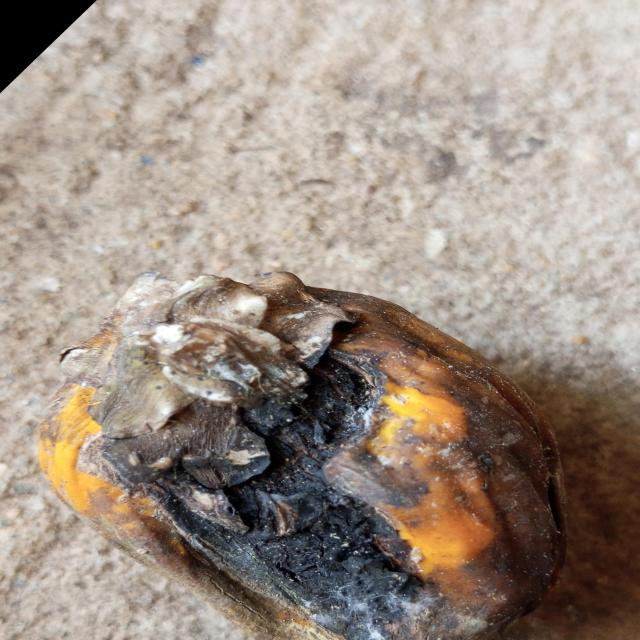damaged: (39, 272, 565, 640)
